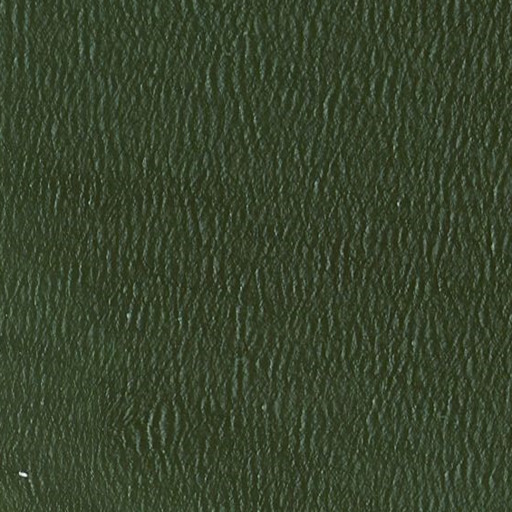ship: (16, 468, 28, 480)
